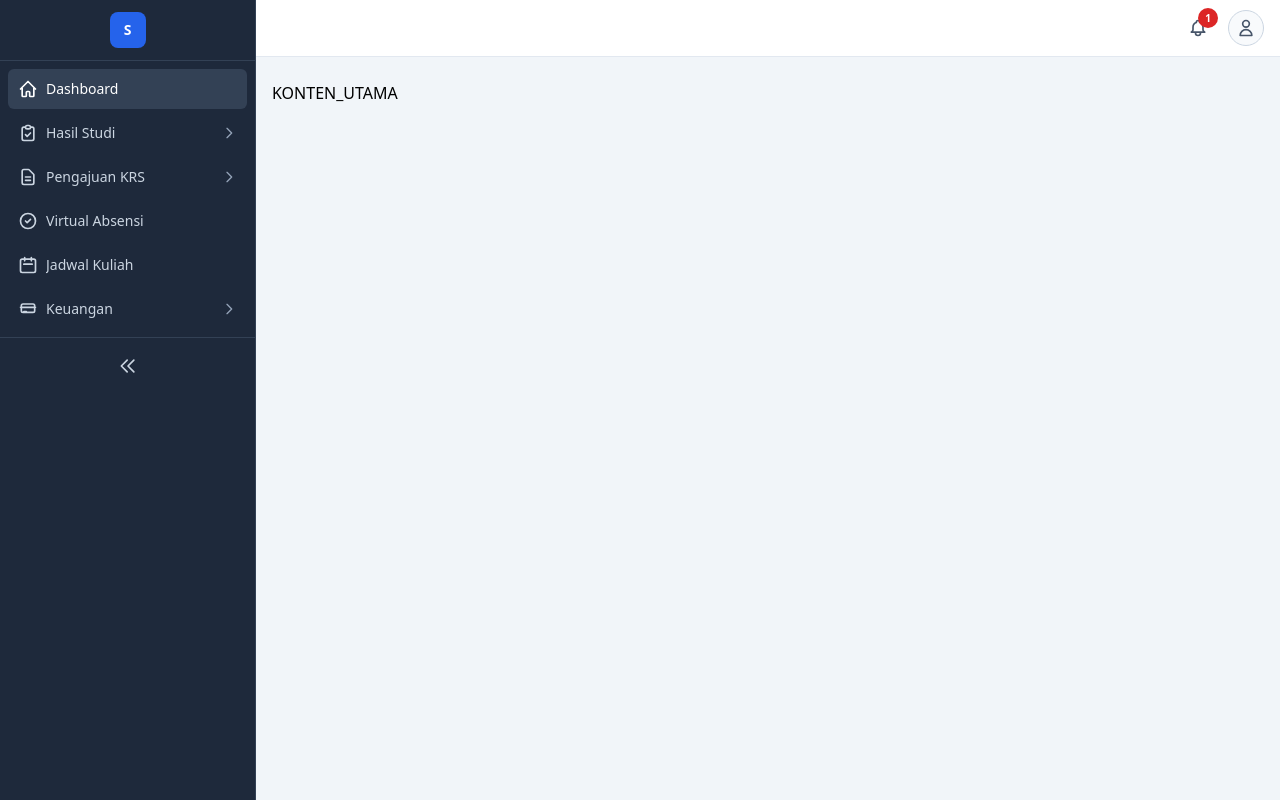
Test: AppLayout (T1.11d polish + keluhan #5 sidebar ikon & #26 dropdown avatar) › keluhan — notifikasi HALAMAN MELAYANG: klik lonceng → panel muncul TANPA pindah halaman
This screenshot has width=1280, height=800.
Expected: the dialog "Notifikasi" is not shown
What coordinates should you click on to do the following:
click the button named "Notifikasi"
I would click on:
 (1198, 28)
Its box is [1180,10,1216,46].
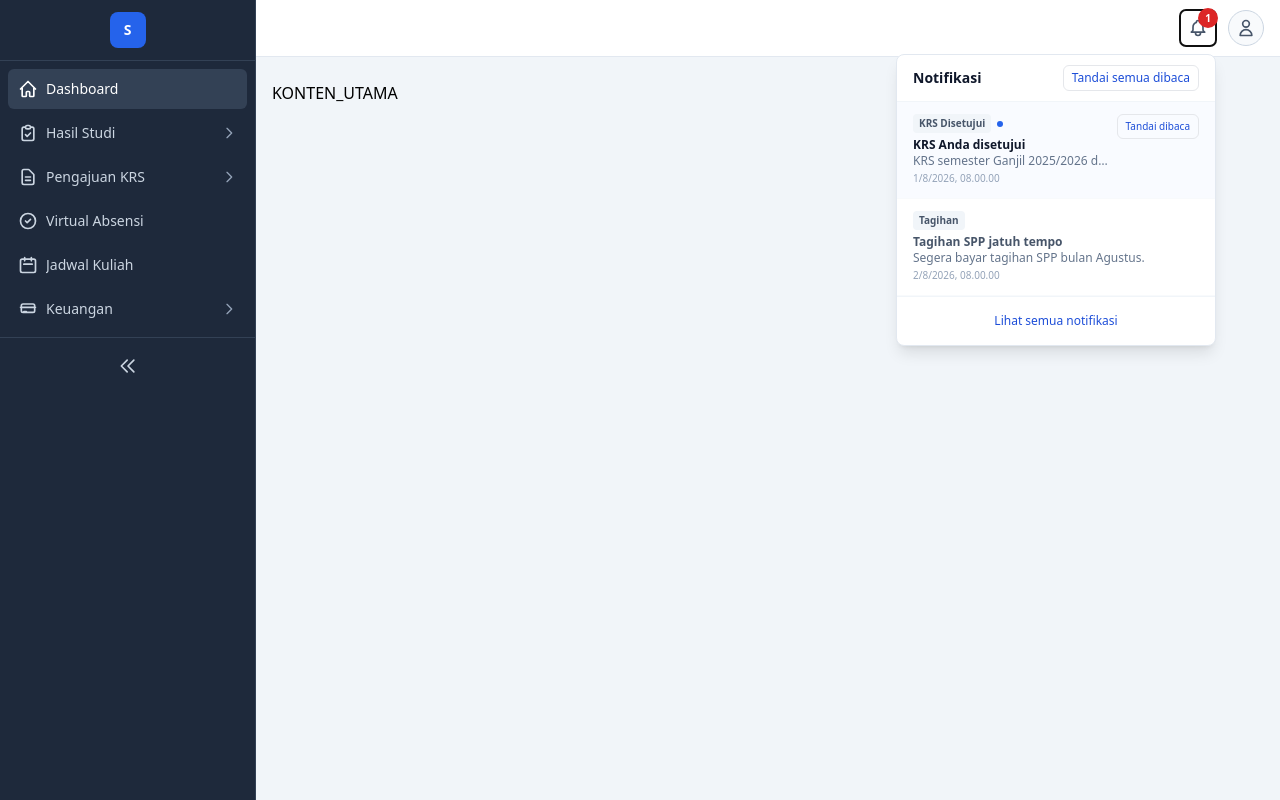
Now the dialog "Notifikasi" is shown, box [896,54,1216,346]
Now the text "KRS Anda disetujui" is shown, box [913,136,1025,153]
Now the text "Tagihan SPP jatuh tempo" is shown, box [913,233,1062,250]
